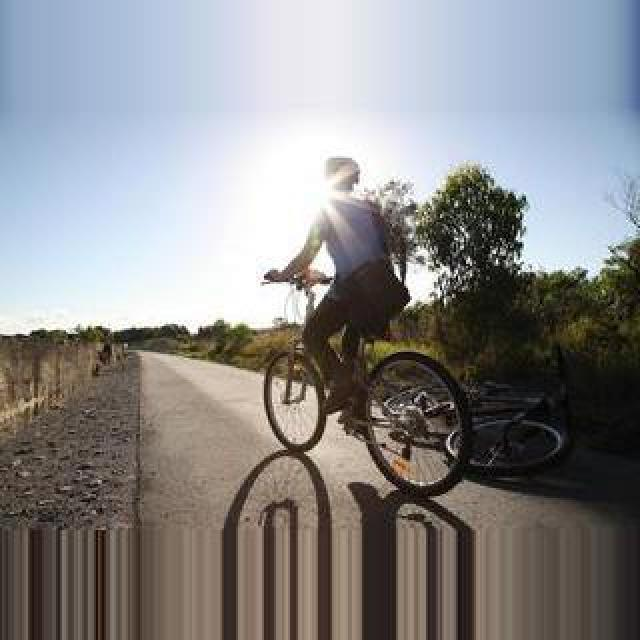MC-Bike: (260, 156, 406, 434)
Person: (261, 273, 465, 495)
